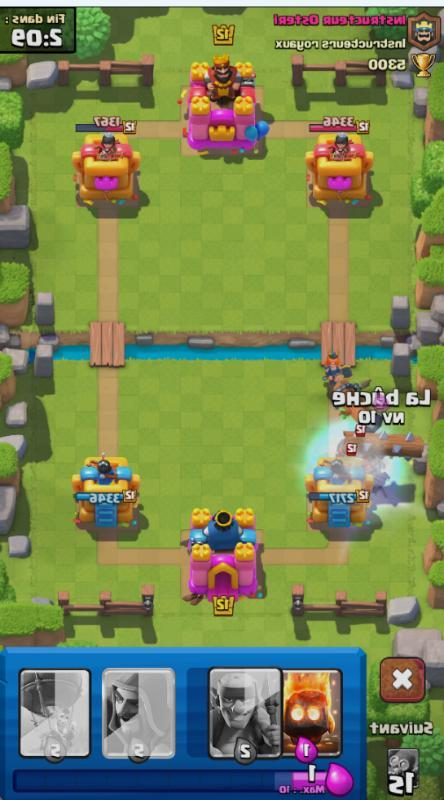player_log: (340, 426, 429, 463)
player_valkyrie: (316, 342, 354, 391)
